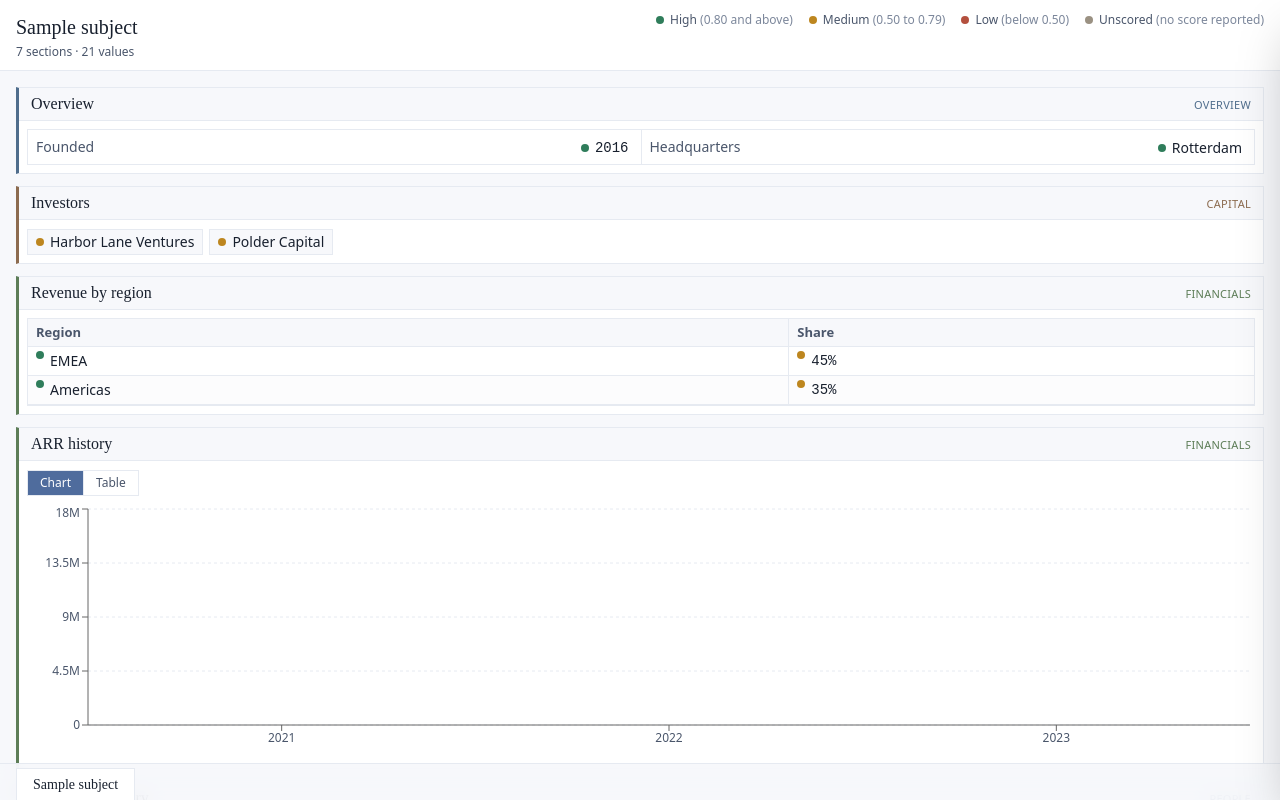
it: charts and safe fallback › shows the chart with a working Chart/Table toggle
Expected: the element showing "2021 2022 2023 0 4.5M 9M 13.5M 18M" is shown, x1=27 y1=504 x2=1255 y2=760
Step 1. Click the button "Table" → (110, 483), box x1=83 y1=471 x2=138 y2=495
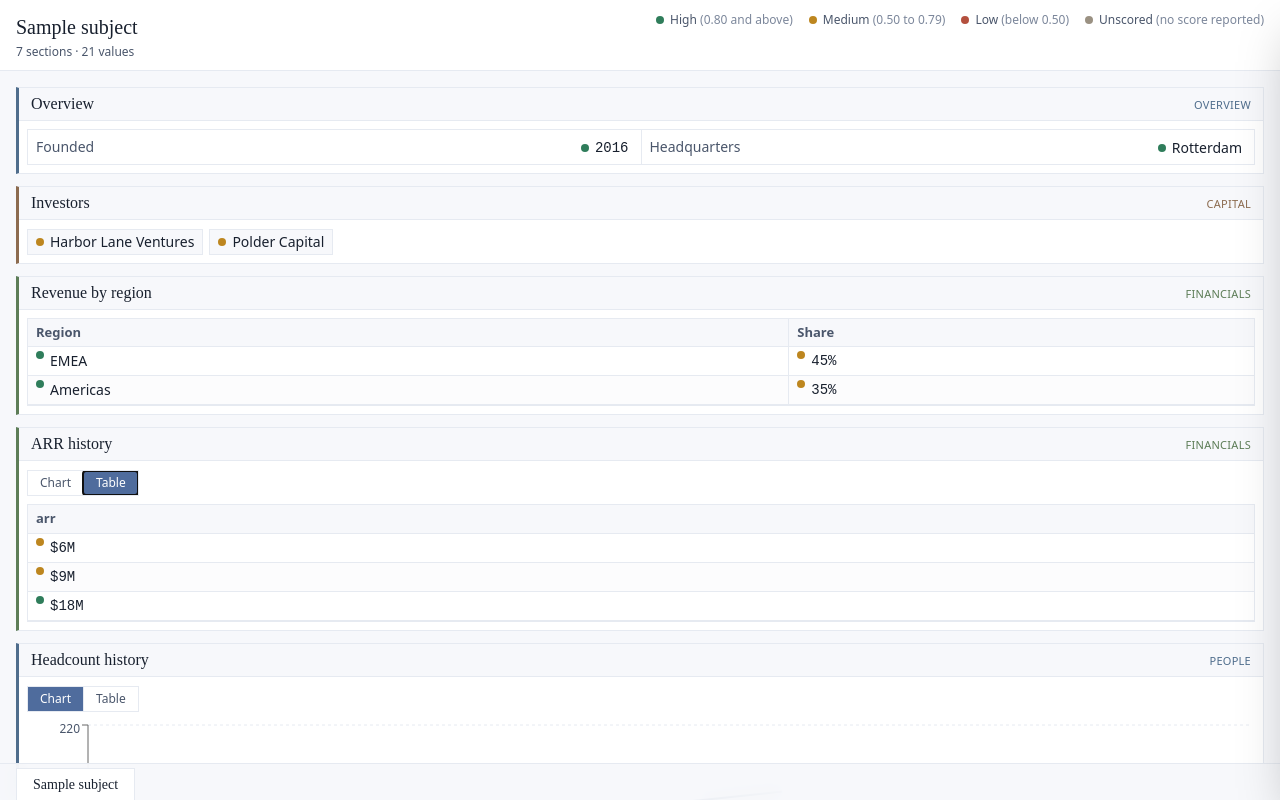
Now the table "arr $6M $9M $18M" is shown, box x1=28 y1=505 x2=1254 y2=620
